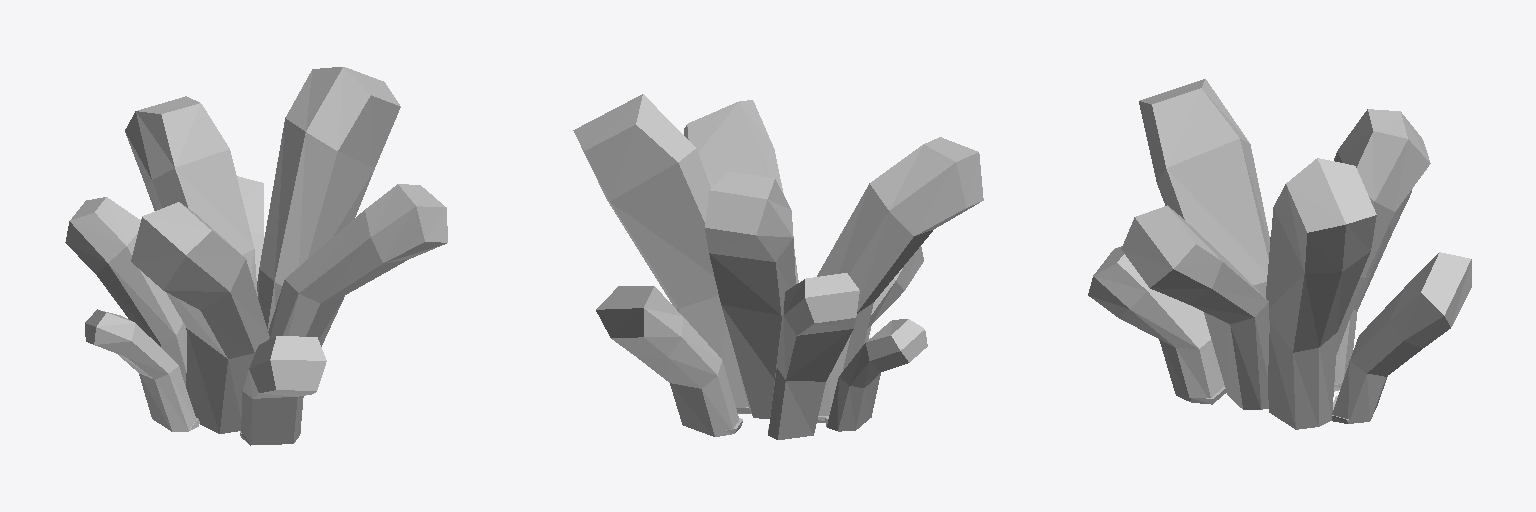
File: Anemone_A_03_LOD2.obj
The picture shows the model from 3 angles: view 1: azimuth 30°, elevation 25°; view 2: azimuth 150°, elevation 25°; view 3: azimuth 270°, elevation 25°; orthographic projection.
Visible parts, largest first — view 1: Anemone_A_03_LOD2_Cylinder.413; view 2: Anemone_A_03_LOD2_Cylinder.413; view 3: Anemone_A_03_LOD2_Cylinder.413.
Part boxes in pixels (bbox=[...]): Anemone_A_03_LOD2_Cylinder.413: bbox=[65, 67, 447, 445]; Anemone_A_03_LOD2_Cylinder.413: bbox=[573, 94, 983, 439]; Anemone_A_03_LOD2_Cylinder.413: bbox=[1088, 79, 1471, 429].
Bounding box in the file's own units: 3.73 × 3.3 × 3.83.